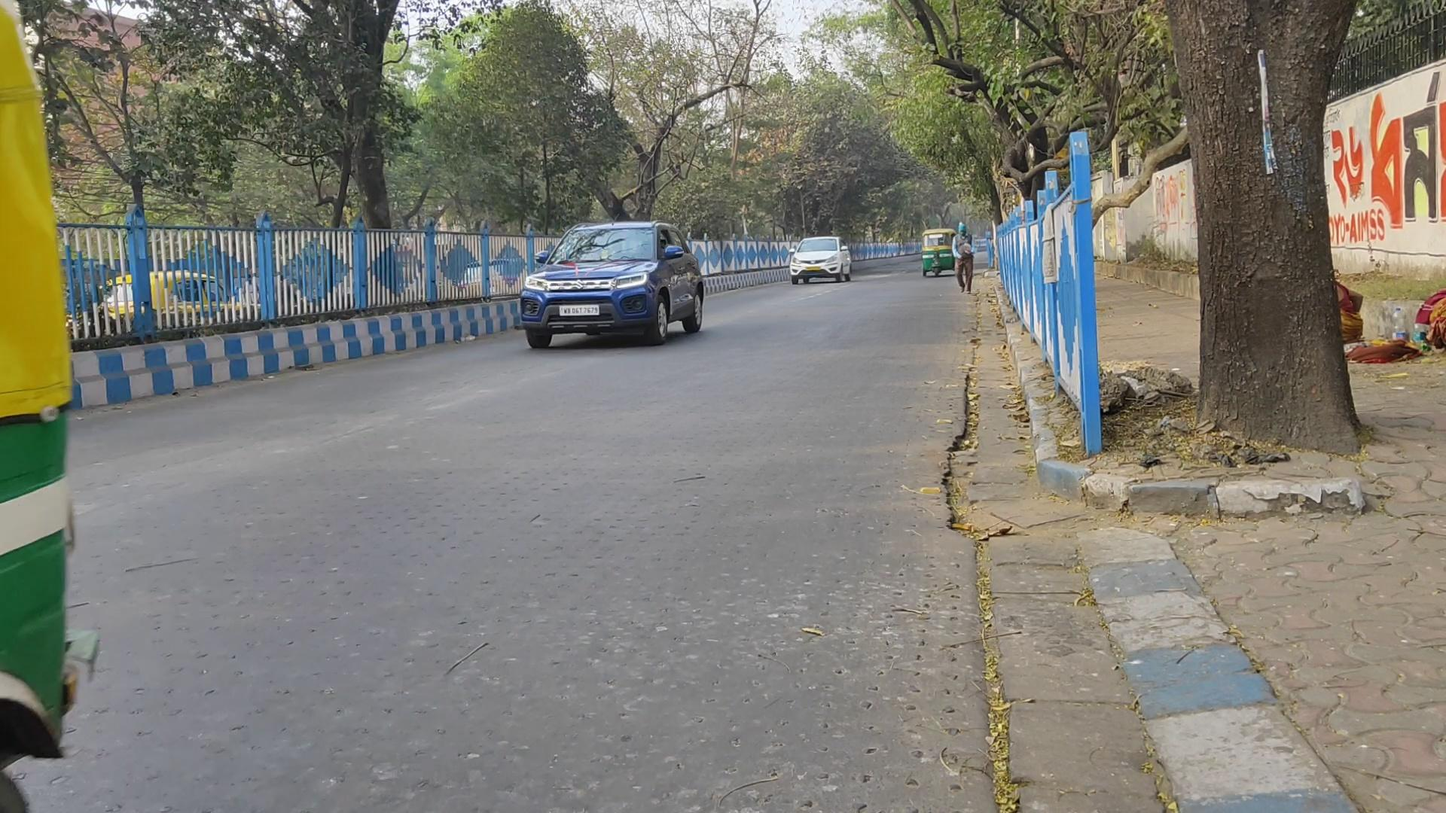Auto: (918, 225, 957, 276)
car: (519, 220, 705, 348), (788, 236, 850, 286)
